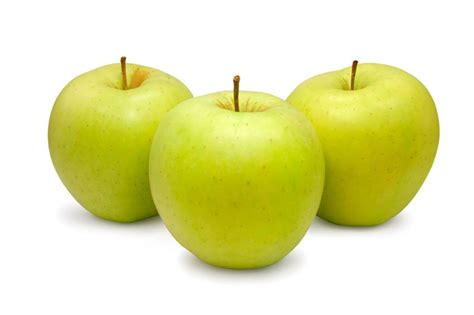apple: (146, 88, 326, 272), (282, 60, 442, 229), (47, 59, 200, 231)
